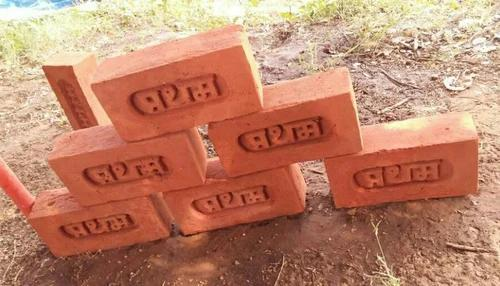brick: (92, 40, 262, 143), (48, 128, 203, 208), (327, 138, 478, 210), (165, 160, 299, 234), (32, 185, 166, 258), (42, 65, 98, 134)
